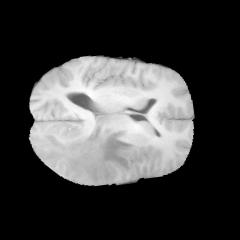glioma: (38, 128, 134, 184)
